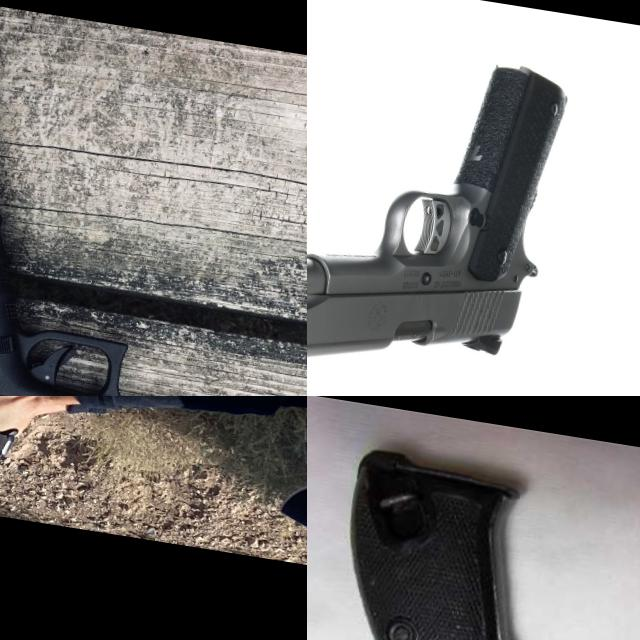handgun: (307, 19, 577, 396), (307, 437, 640, 640), (0, 176, 294, 396), (0, 396, 82, 465)
